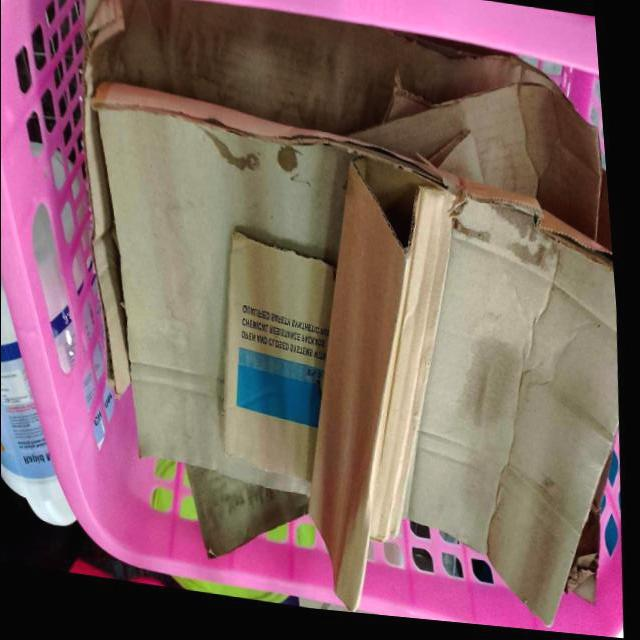General: (2, 3, 620, 635)
Sharps: (1, 282, 77, 528)
